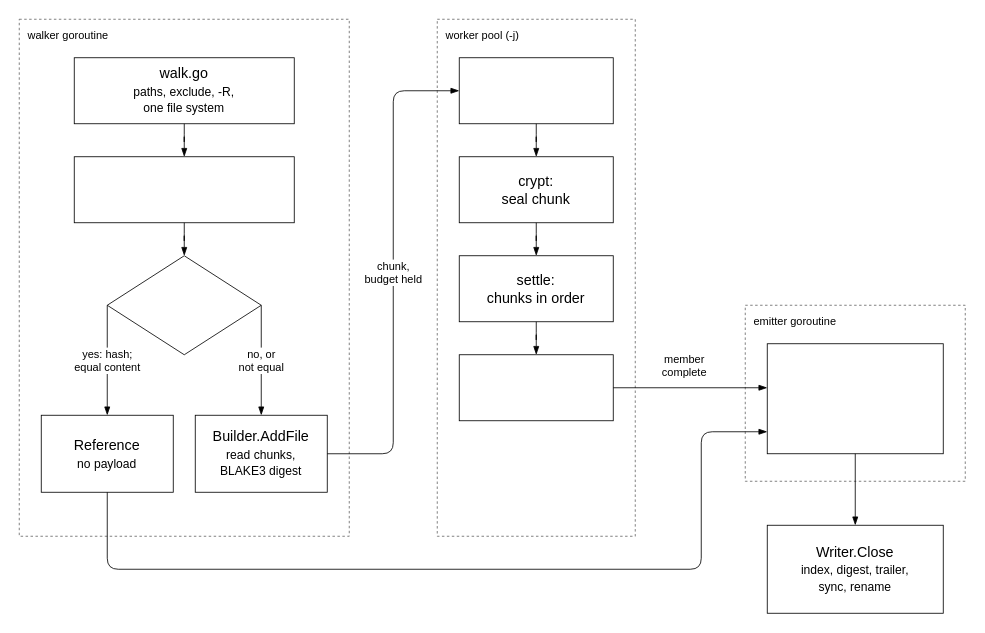
Image size: 985x633. Some labels were removed from this diagram. The centre of each missing label's shape, as x and y in pixels:
"capture.go stat, xattrs, holes, hardlinks, conflicts" belongs at [183,189].
"codec: compress" belongs at [535,90].
"Size of stored content?" belongs at [183,305].
"Spool memory or disk" belongs at [535,387].
"Writer.AppendMember equal content: a reference; else the blob at the file offset" belongs at [854,398].
